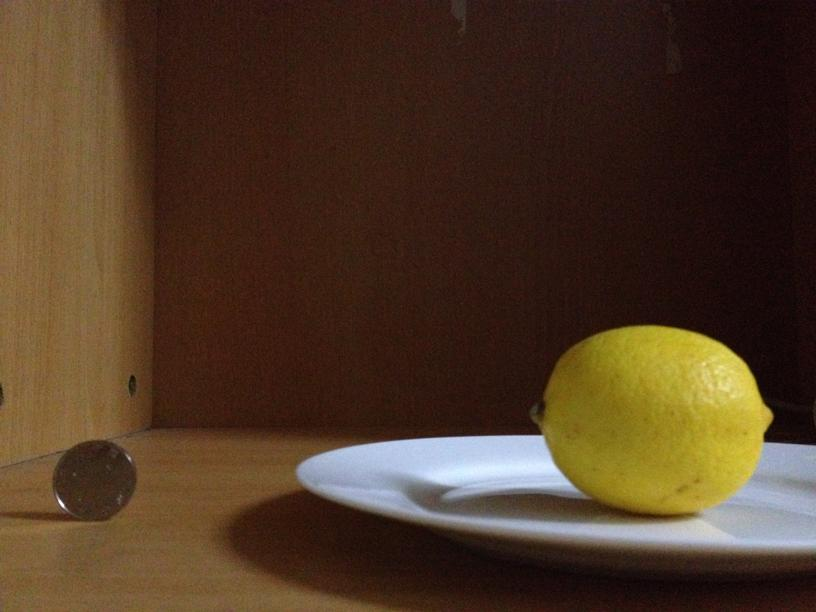coin: (47, 438, 137, 520)
lemon: (529, 325, 771, 517)
